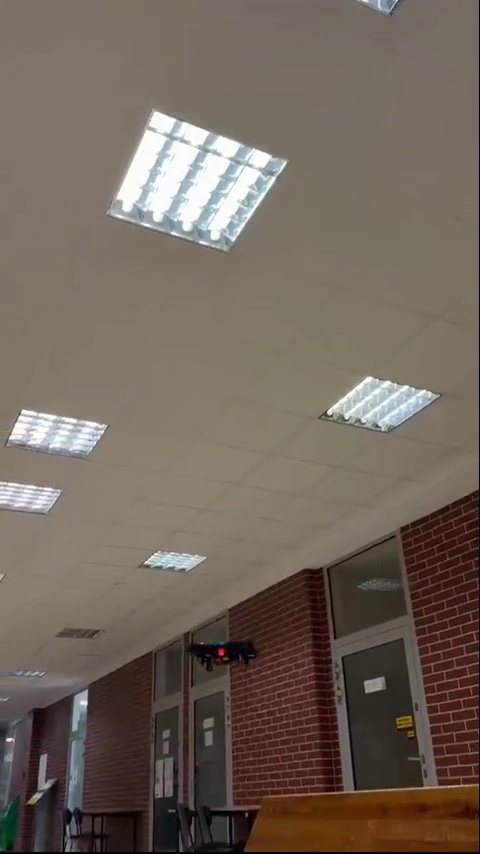drone: (183, 634, 255, 668)
